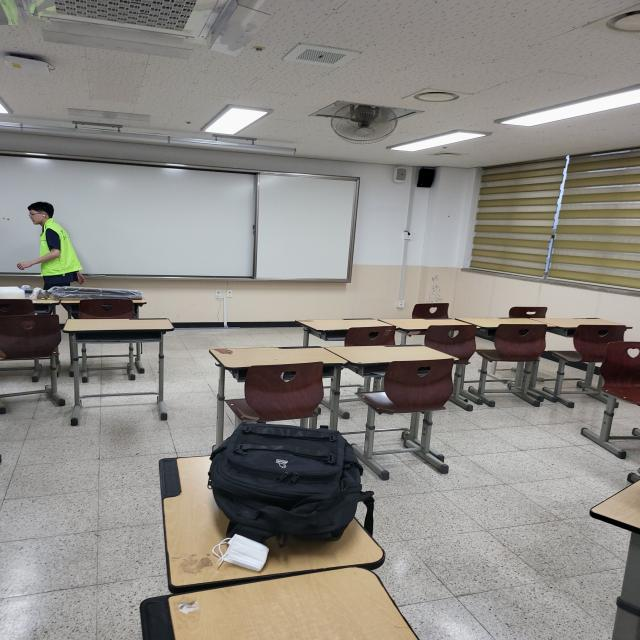weston_spy: (29, 211, 90, 283)
